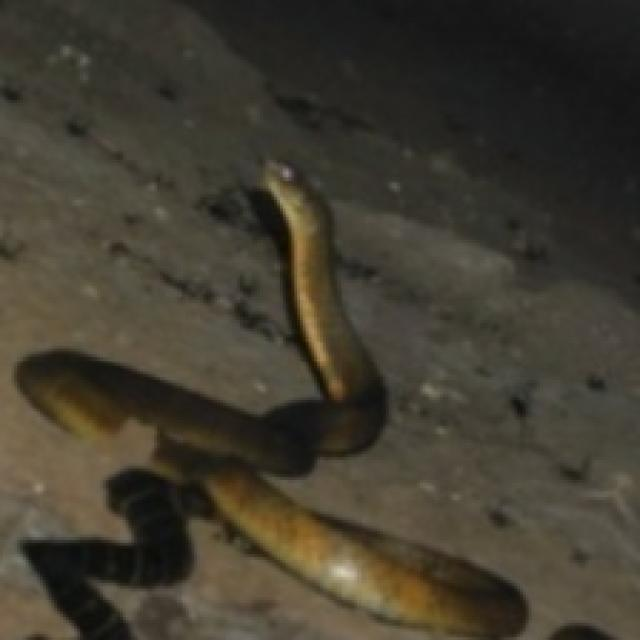king cobra: (14, 160, 526, 637)
